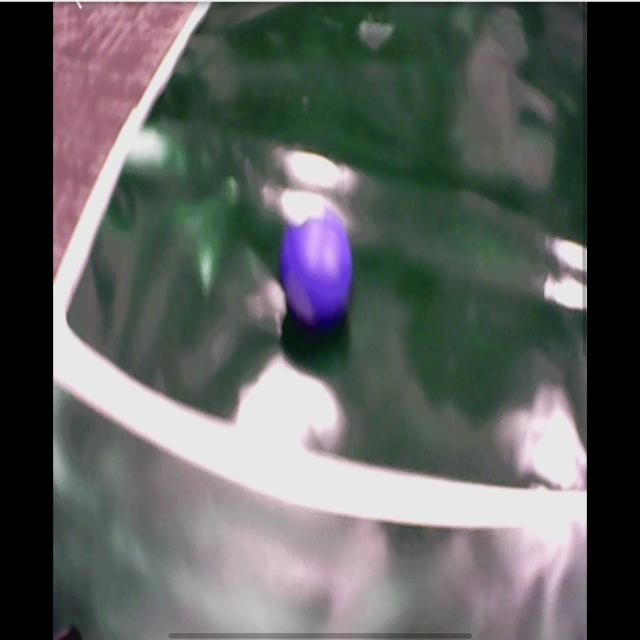ball: (284, 218, 352, 327)
